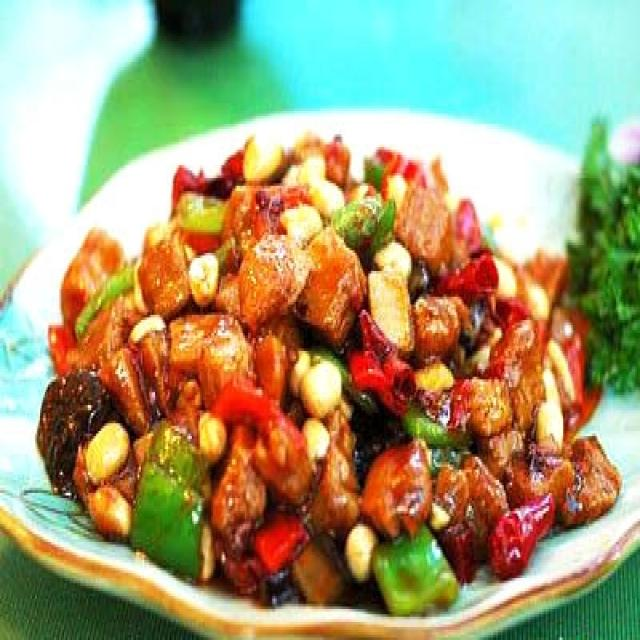鸡肉料理 含炸鸡: (11, 116, 629, 630)
